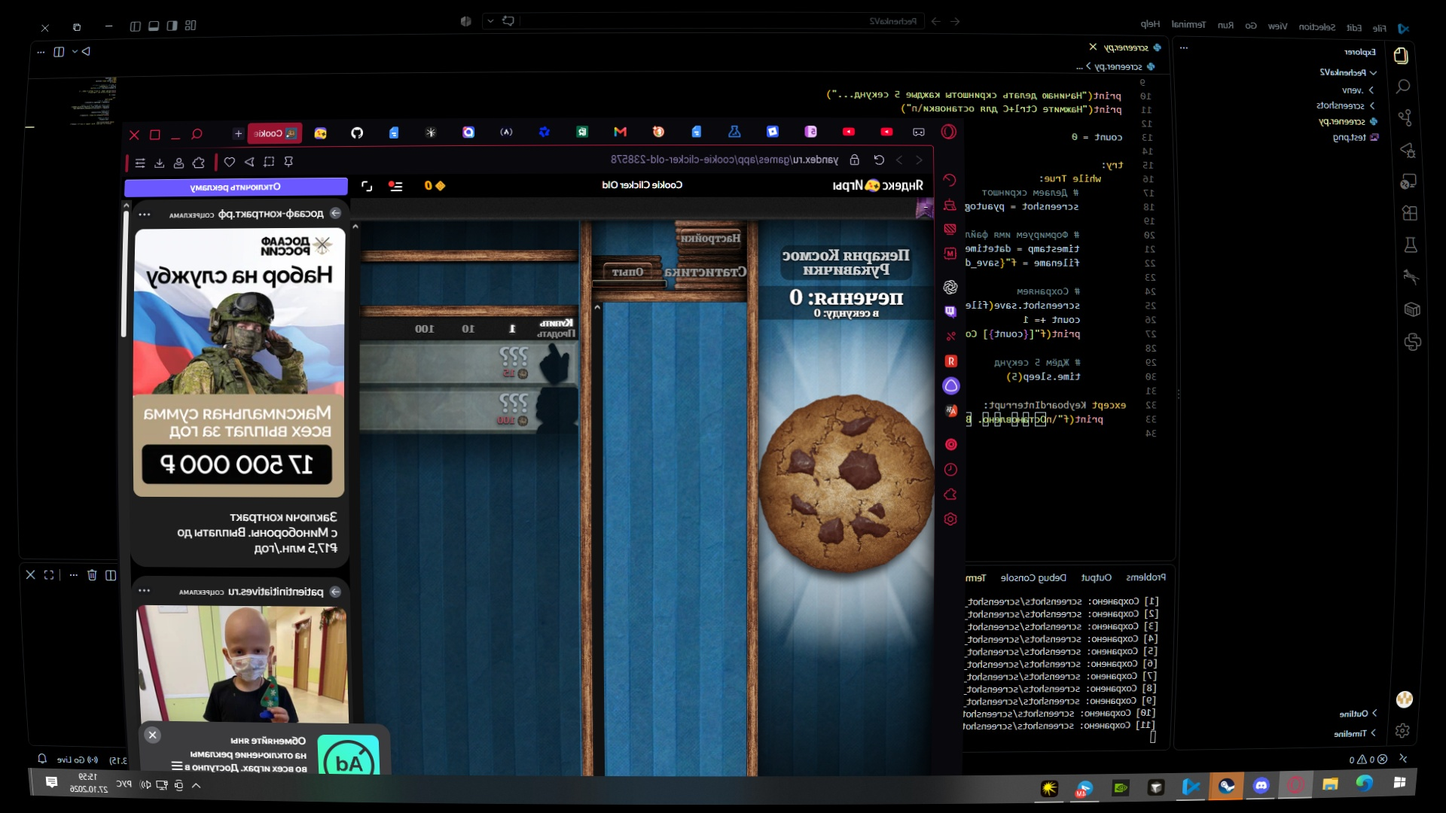game: (768, 397, 922, 563)
pokypki: (357, 314, 583, 443)
